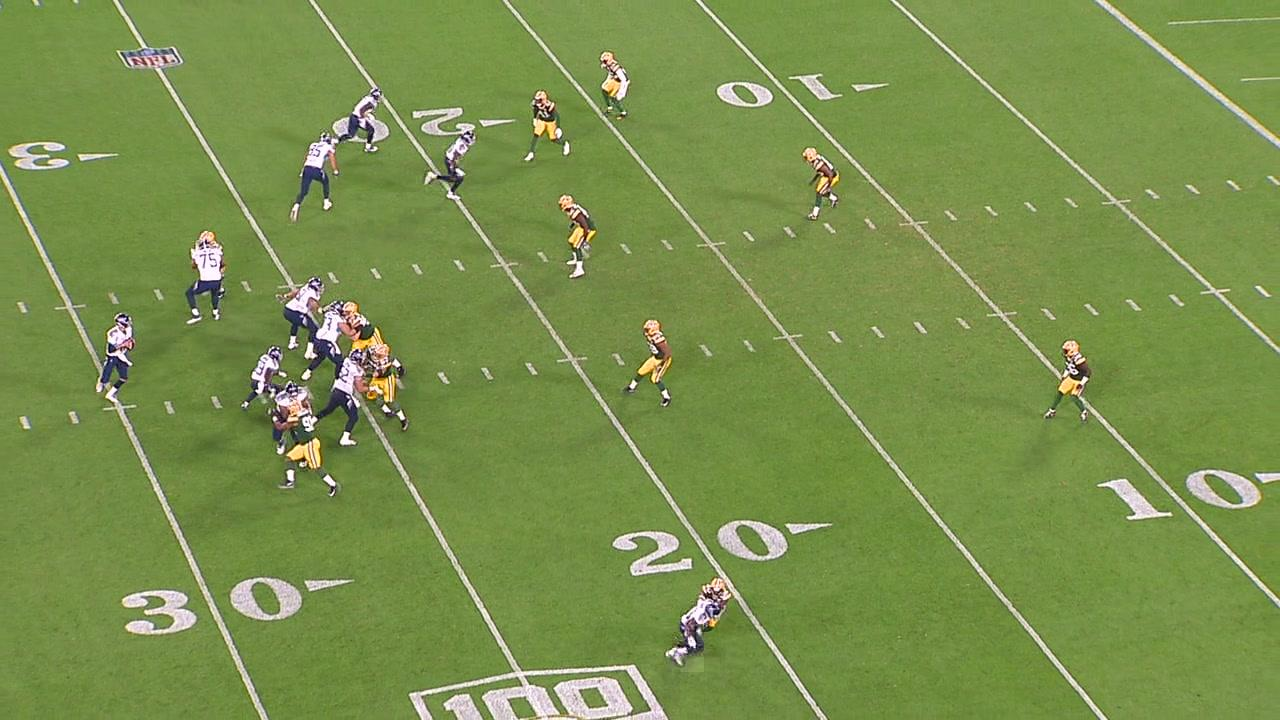five_hash: (99, 403, 140, 413), (554, 356, 589, 364), (490, 260, 519, 269), (52, 303, 87, 310), (696, 240, 726, 248), (985, 311, 1018, 318), (771, 333, 803, 340), (1099, 200, 1133, 206), (898, 220, 929, 226), (1200, 289, 1231, 295)
hash: (102, 289, 124, 307), (13, 298, 32, 317), (1124, 296, 1143, 314), (434, 369, 452, 388), (1081, 301, 1101, 318), (695, 342, 716, 358), (477, 365, 495, 383), (160, 398, 178, 416), (149, 285, 168, 302), (1253, 283, 1272, 300), (1167, 292, 1186, 309), (1038, 305, 1057, 322), (17, 414, 34, 432), (368, 265, 385, 282), (826, 328, 843, 345), (323, 269, 341, 285), (1143, 186, 1161, 202), (610, 351, 628, 367), (522, 361, 540, 377), (208, 393, 224, 411), (1183, 182, 1202, 197), (238, 278, 254, 295), (450, 258, 467, 274), (820, 220, 837, 236), (942, 208, 959, 224), (954, 315, 971, 331), (66, 410, 82, 427), (658, 237, 676, 252), (781, 225, 799, 240), (1062, 196, 1080, 211), (1224, 178, 1242, 193), (912, 319, 928, 335), (741, 338, 757, 354), (535, 250, 552, 265), (982, 203, 999, 218), (869, 325, 886, 340), (862, 217, 880, 231), (1021, 200, 1039, 214), (618, 241, 633, 256), (410, 263, 426, 277), (1266, 173, 1280, 188), (741, 230, 756, 242)
number: (115, 573, 307, 638), (607, 516, 791, 579), (1096, 463, 1267, 523), (705, 68, 845, 111)
